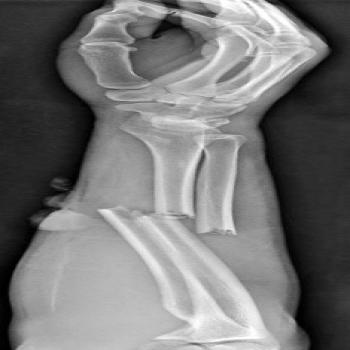Fracture: (84, 204, 273, 244)
